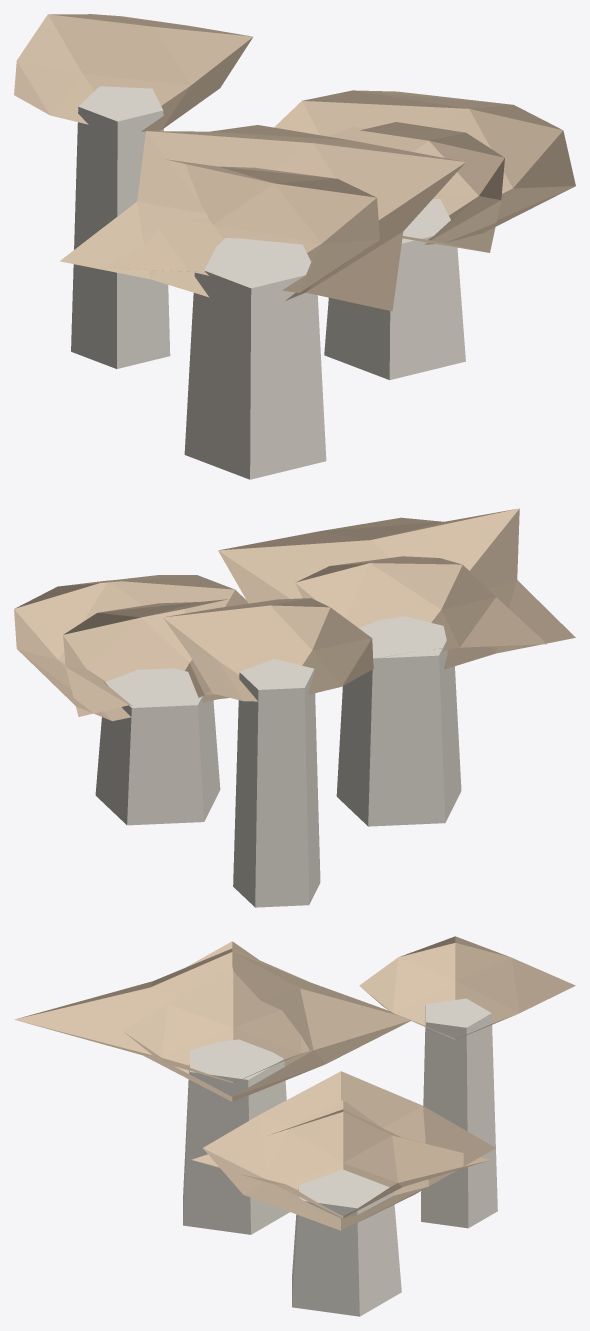
The model's file is mushroom_v43.glb.
The picture shows the model from 3 angles, top to bottom: view 1: azimuth 30°, elevation 25°; view 2: azimuth 150°, elevation 25°; view 3: azimuth 270°, elevation 25°; orthographic projection. The views are drawn at different scales.
Parts seen in each view (by area): view 1: lod0; view 2: lod0; view 3: lod0.
Boxes of the visible parts, left/top/right/bottom form: lod0: left=14, top=14, right=575, bottom=479; lod0: left=14, top=508, right=575, bottom=907; lod0: left=14, top=936, right=575, bottom=1316.
Size of what is drawn, in the model's own units: 0.8315 by 0.4602 by 0.8741.
